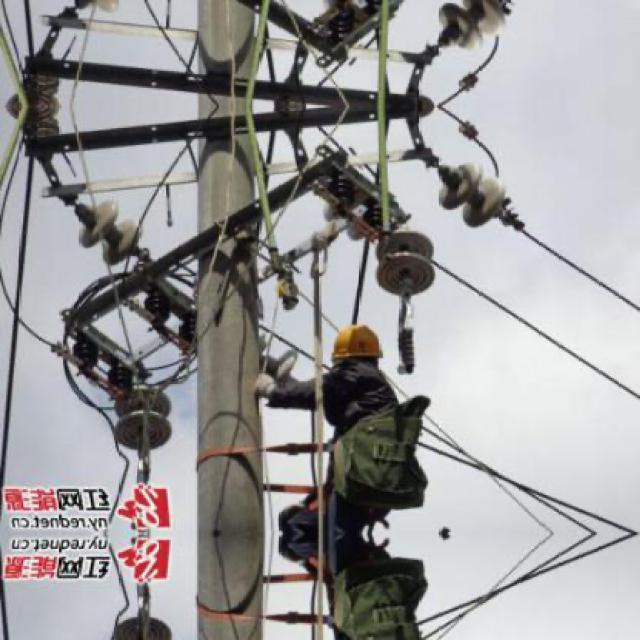con casco: (329, 324, 408, 394)
